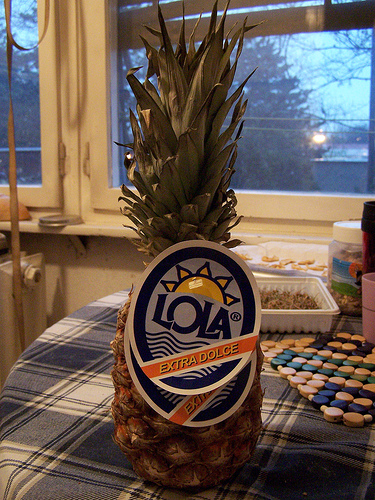pineapple: (112, 2, 263, 493)
